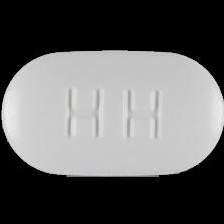43547-278: (0, 0, 224, 224)
